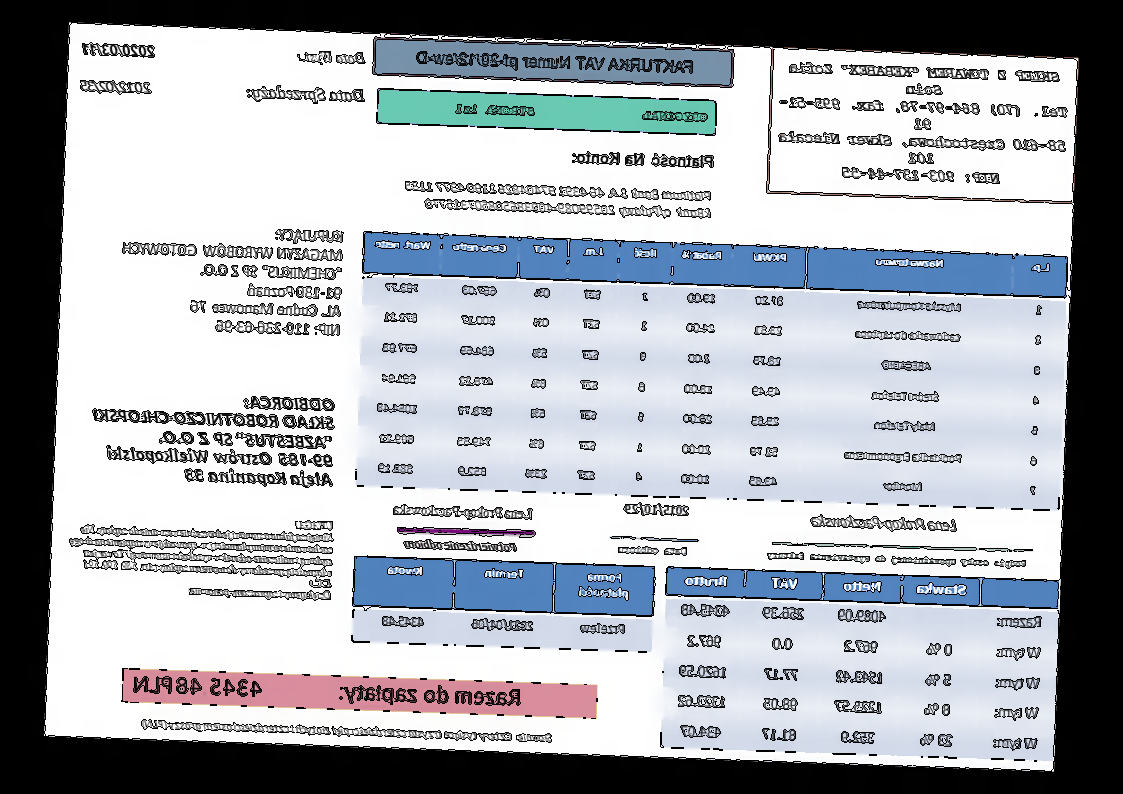Table: (353, 231, 1070, 513), (659, 565, 1060, 764), (350, 555, 656, 653)
TextBox: (774, 60, 1073, 187), (117, 219, 346, 339), (64, 509, 336, 603), (89, 388, 337, 490), (132, 673, 522, 711), (402, 177, 715, 221), (139, 716, 554, 745), (412, 46, 696, 78), (452, 101, 709, 125), (765, 549, 1029, 570), (809, 512, 959, 535), (569, 148, 715, 171), (393, 500, 536, 522), (244, 83, 367, 106), (404, 536, 519, 554), (80, 41, 156, 60), (296, 47, 367, 67), (79, 78, 153, 96), (623, 500, 691, 519), (617, 542, 689, 558)
